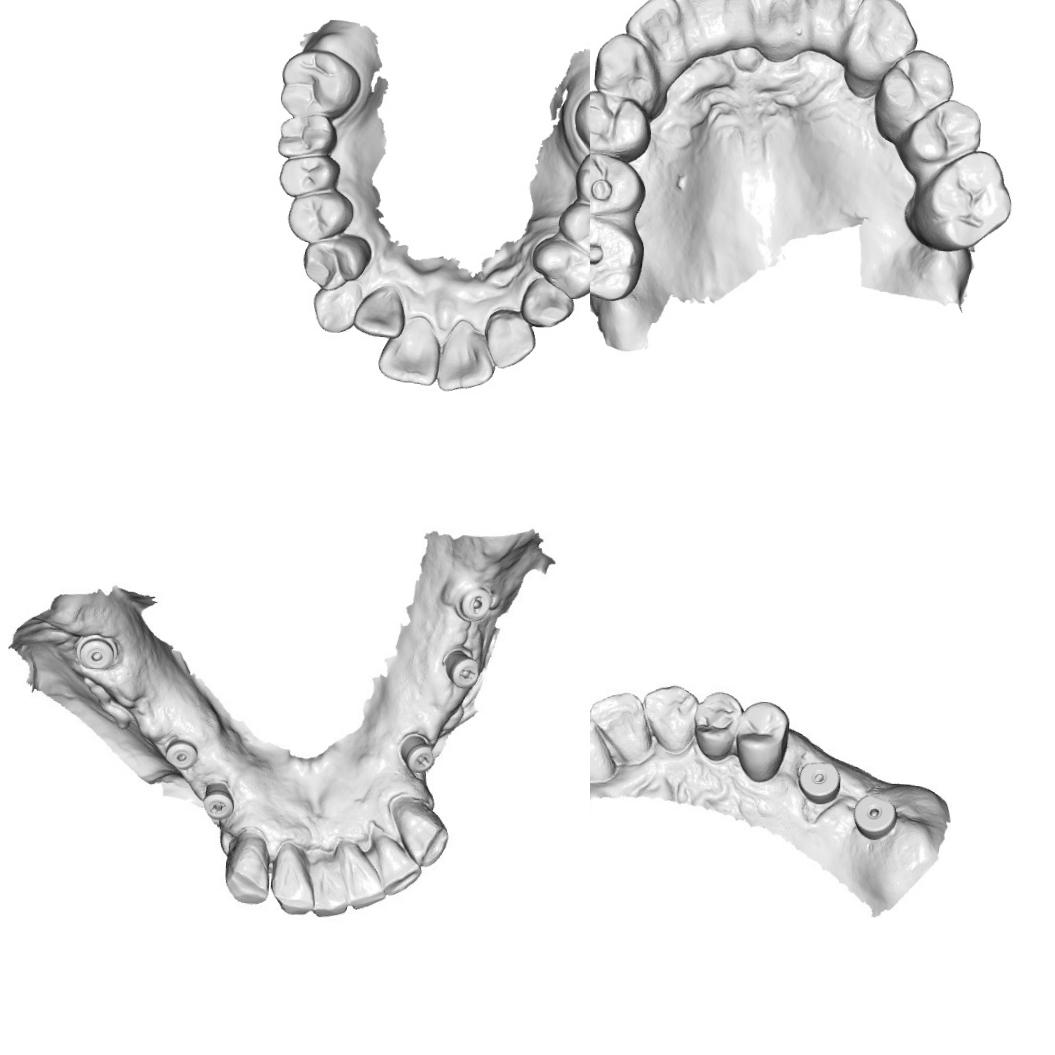canine: (839, 0, 919, 85), (590, 30, 664, 114), (638, 678, 700, 754), (392, 800, 453, 870), (220, 832, 274, 907), (517, 272, 575, 331), (310, 276, 364, 336)
implant: (793, 758, 844, 805), (850, 791, 898, 840), (75, 630, 119, 673), (160, 736, 200, 772)
implant_minus: (454, 583, 497, 629), (442, 646, 482, 690), (398, 731, 435, 773), (200, 780, 236, 822)
incisor: (374, 310, 443, 387), (433, 315, 499, 395), (590, 687, 652, 764), (334, 836, 390, 914), (619, 0, 687, 64), (368, 822, 424, 899), (480, 304, 538, 370), (347, 282, 408, 340), (730, 0, 809, 42), (269, 846, 316, 916), (664, 0, 739, 41), (310, 854, 354, 918), (799, 0, 863, 39), (590, 701, 616, 786)
molar: (917, 146, 1016, 255), (275, 43, 364, 122), (590, 209, 646, 304), (274, 110, 339, 162), (570, 82, 590, 162), (571, 148, 590, 216)
premolar: (874, 46, 957, 126), (900, 94, 984, 172), (732, 696, 792, 782), (298, 230, 373, 294), (590, 87, 651, 164), (526, 232, 590, 302), (284, 186, 356, 246), (590, 148, 650, 218), (691, 688, 743, 762), (274, 148, 342, 201), (555, 196, 590, 258)
